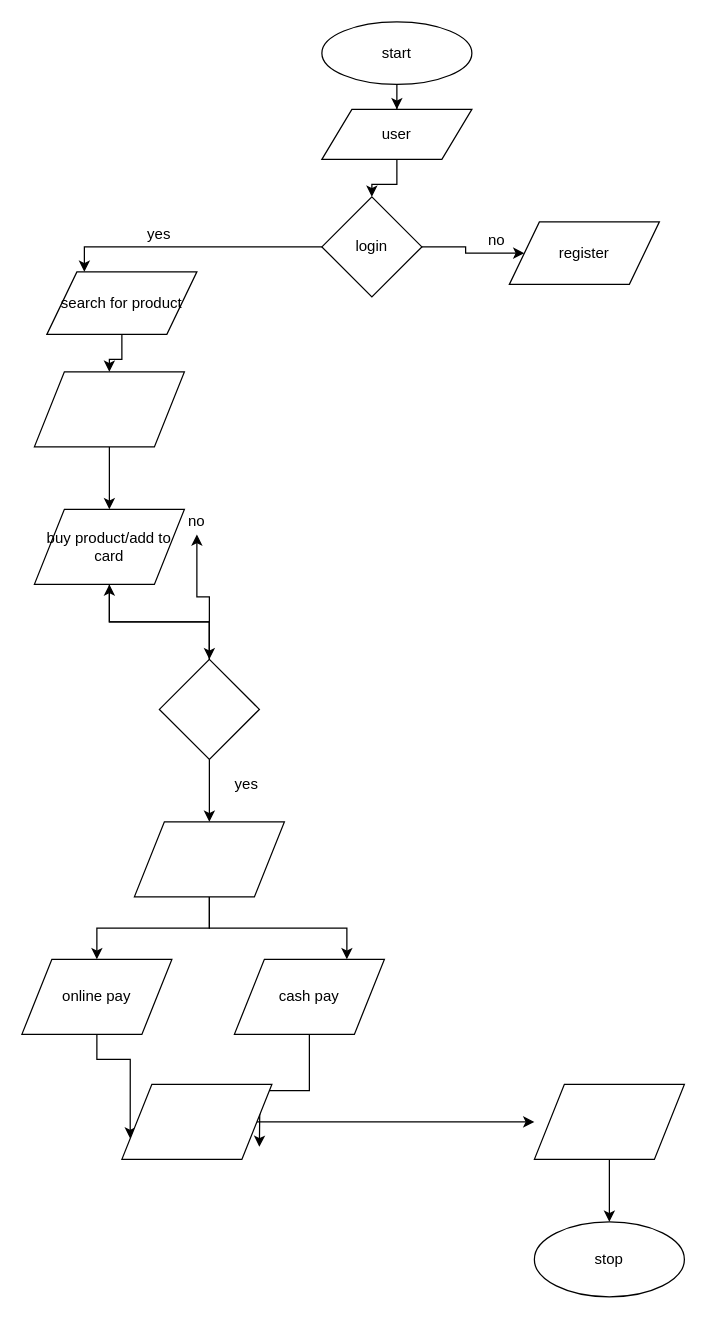
Some shapes in this 706 by 1329 pixel diagram are drawn without their labels. Each missing label, with the centre of its shape:
"make payment" goes at [208,708].
"order complete" goes at [196,1121].
"payment type" goes at [208,859].
"sign out" goes at [608,1121].
"view product" goes at [108,409].
